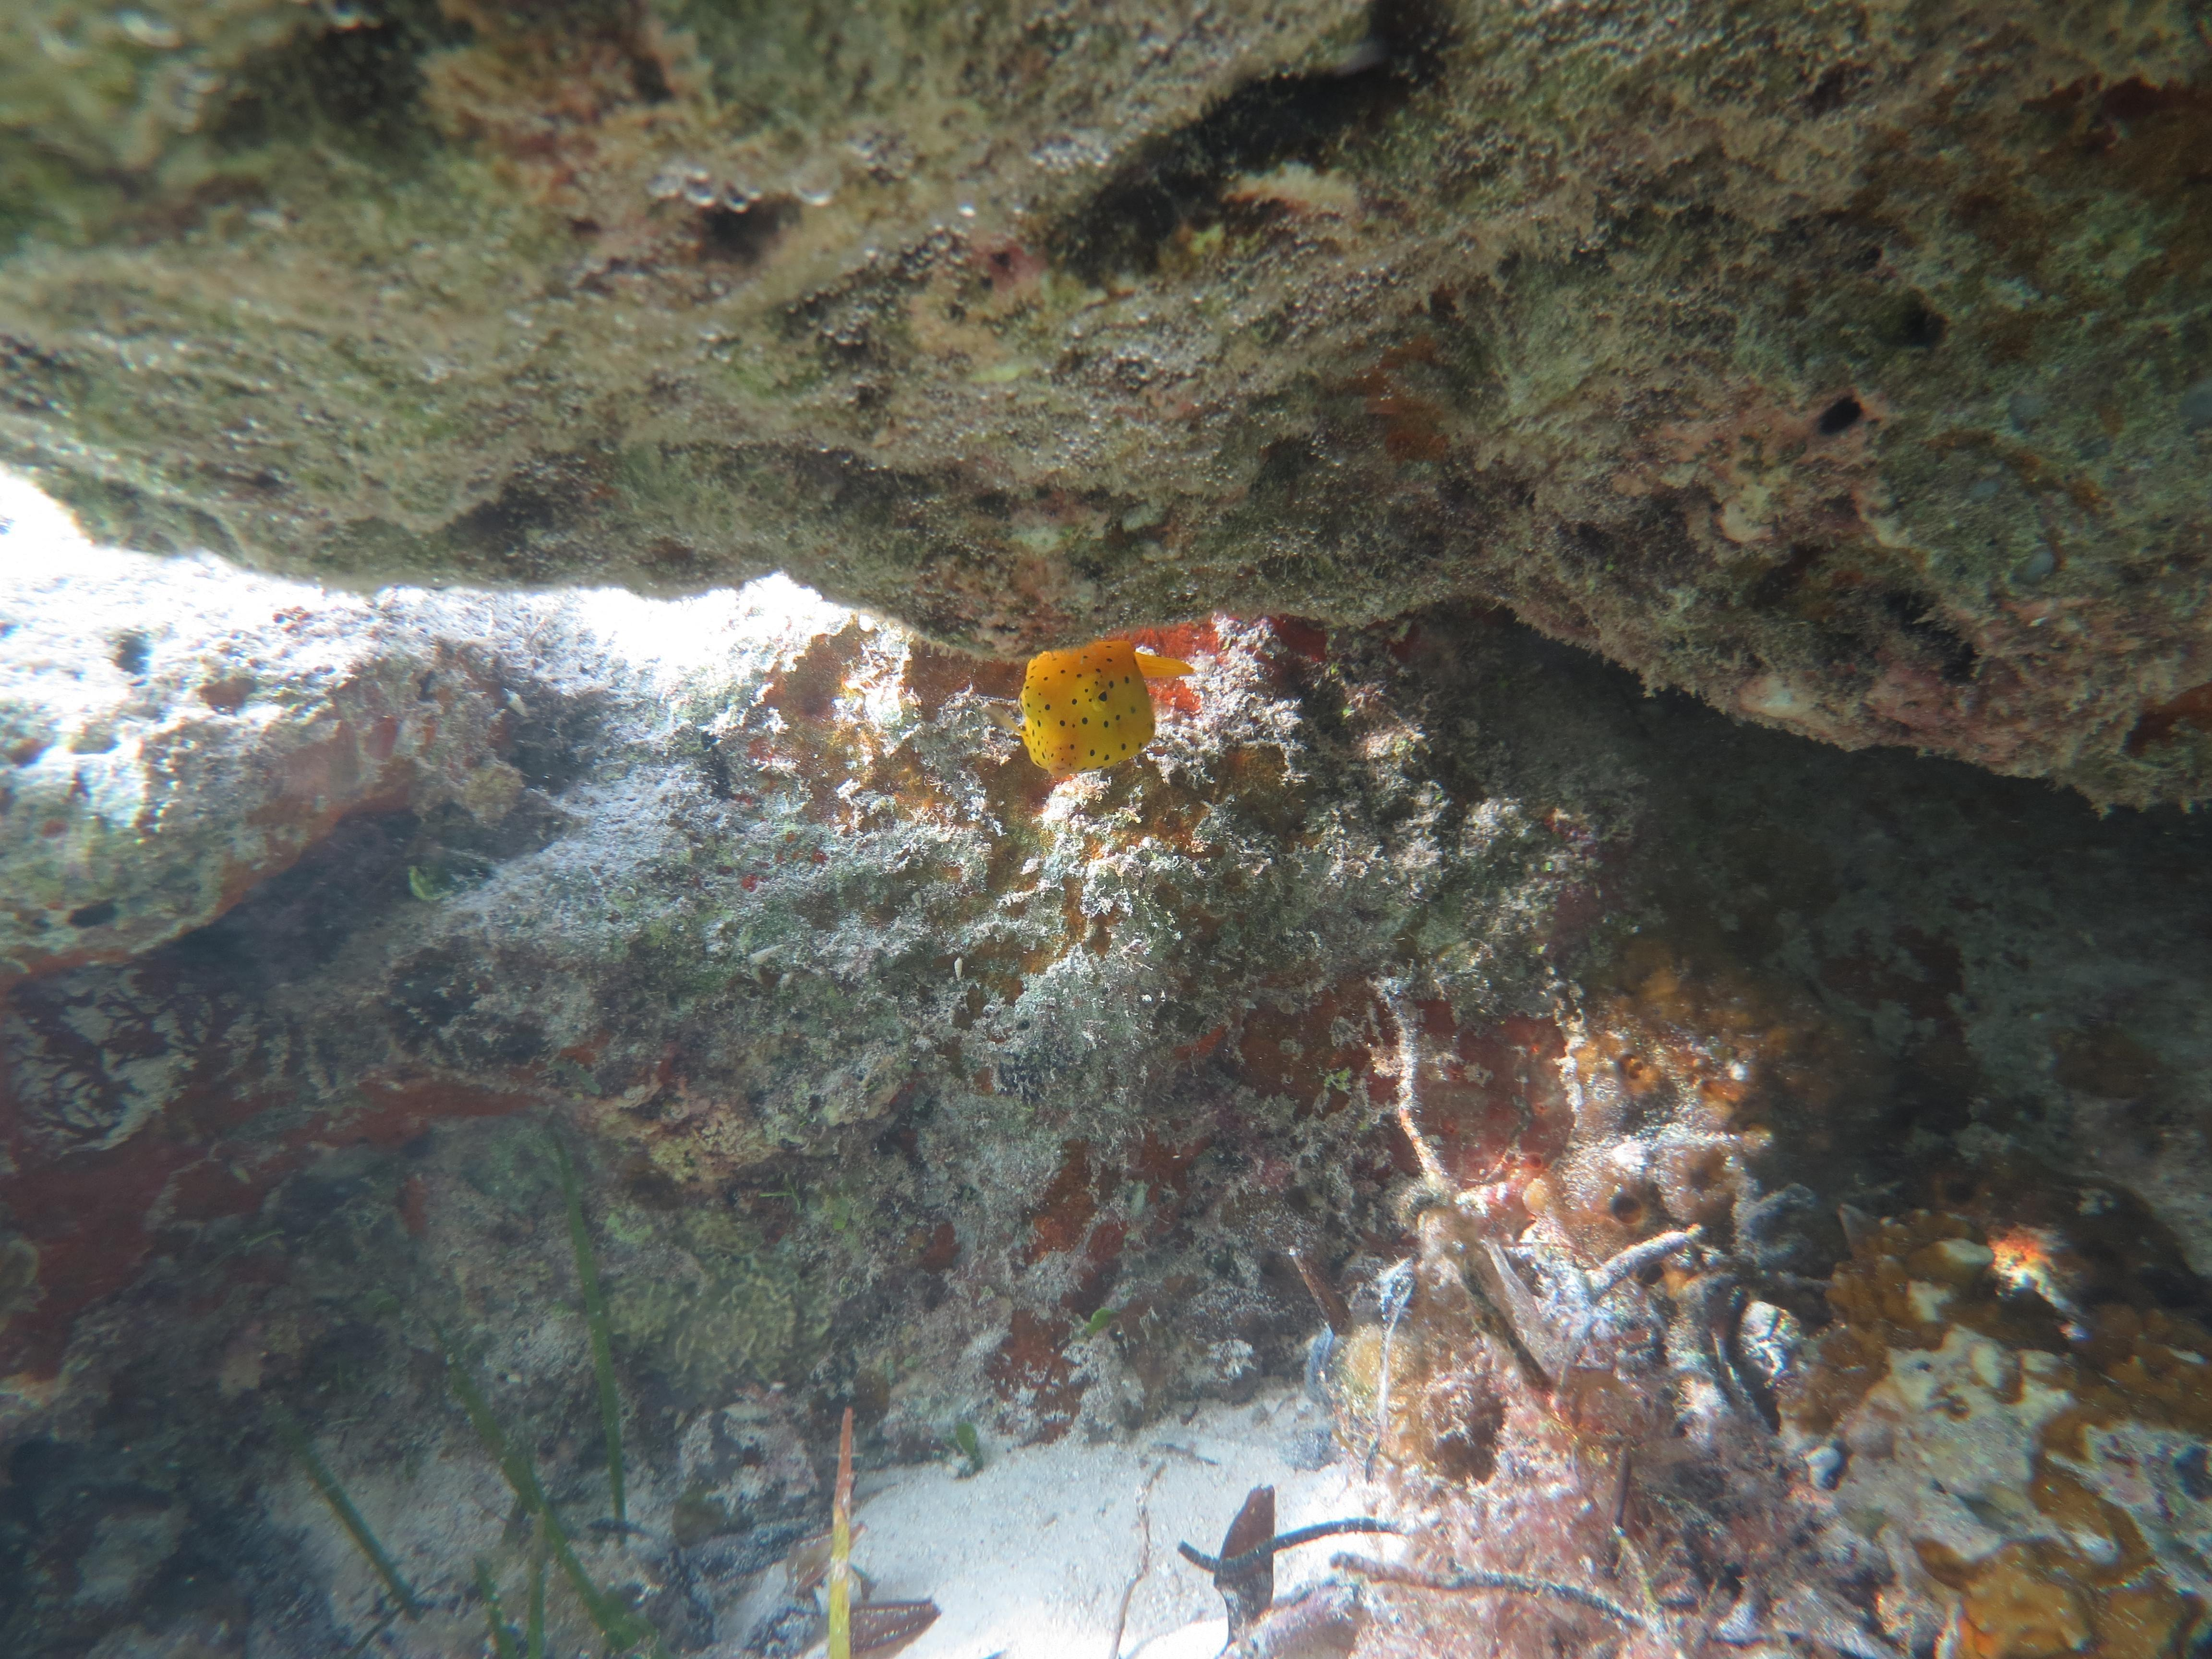Fish: (942, 577, 1204, 840)
